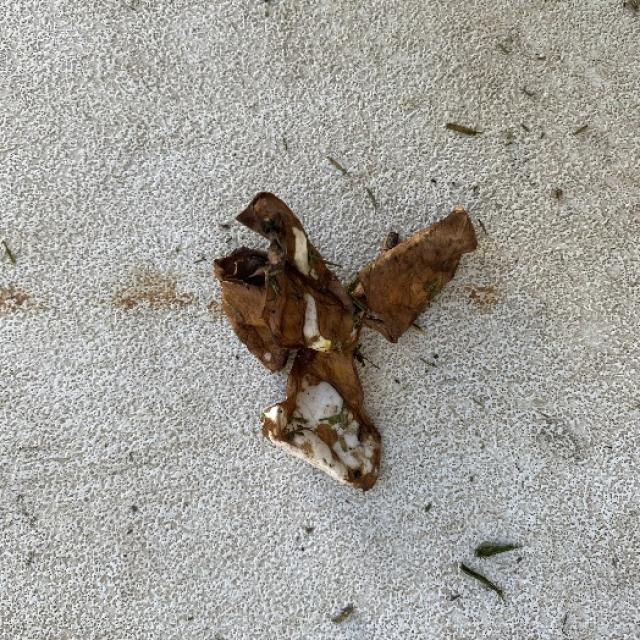organik: (222, 159, 478, 502)
